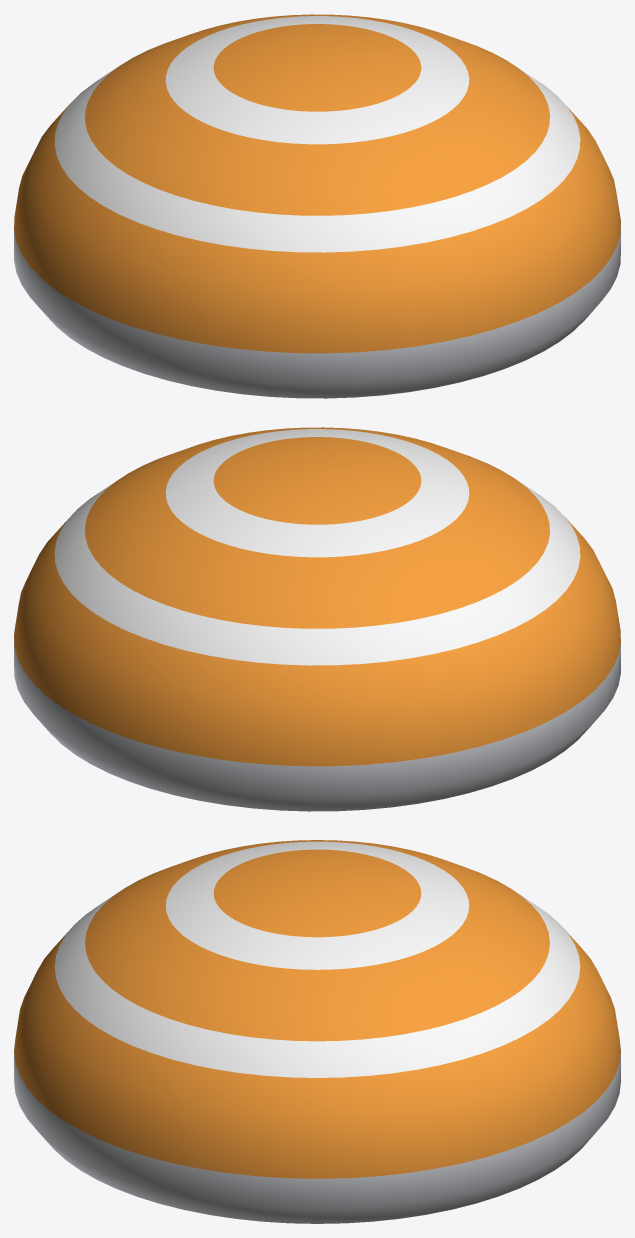
File: chute_m.glb
The picture shows the model from 3 angles, top to bottom: view 1: azimuth 30°, elevation 25°; view 2: azimuth 150°, elevation 25°; view 3: azimuth 270°, elevation 25°; orthographic projection.
Parts seen in each view (by area): view 1: chute_m; view 2: chute_m; view 3: chute_m.
Part boxes in pixels (box(x1,y1,x2,y2)): chute_m: box(14, 14, 620, 398); chute_m: box(14, 427, 620, 811); chute_m: box(14, 840, 620, 1223).
Bounding box in the file's own units: 1.25 × 0.5 × 1.25.
